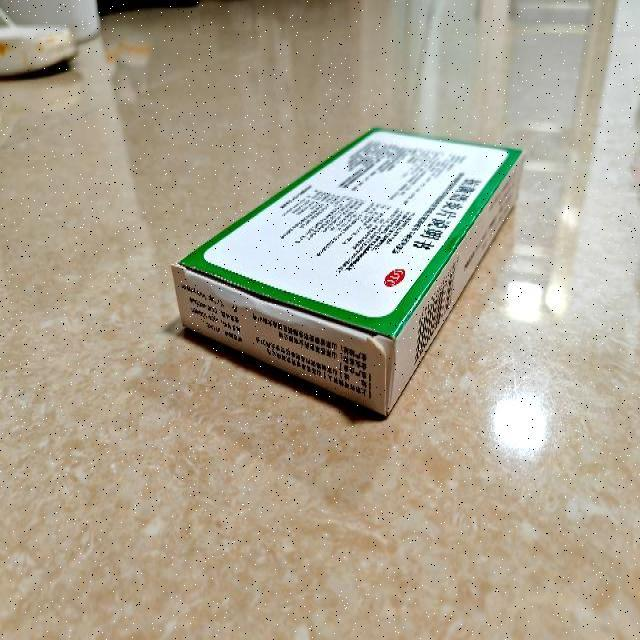box: (173, 127, 523, 420)
